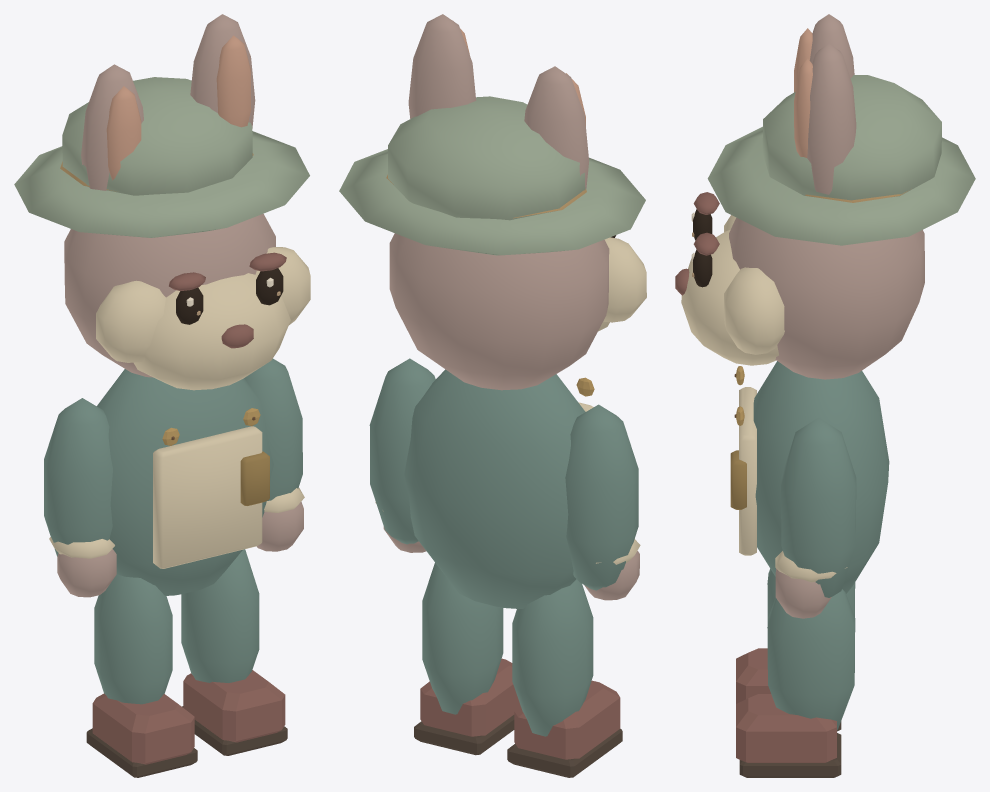
The model's file is npc_tilda.glb.
3 renders of one model, left to right at view 1: azimuth 30°, elevation 25°; view 2: azimuth 150°, elevation 25°; view 3: azimuth 270°, elevation 25°, orthographic. The views are drawn at different scales.
Visible parts, largest first — view 1: npc_tilda, npc_tilda_leg_l, npc_tilda_leg_r, npc_tilda_arm_l, npc_tilda_arm_r, npc_tilda_r_eye, npc_tilda_l_eye; view 2: npc_tilda, npc_tilda_leg_l, npc_tilda_leg_r, npc_tilda_arm_l, npc_tilda_arm_r; view 3: npc_tilda, npc_tilda_leg_r, npc_tilda_arm_r, npc_tilda_leg_l, npc_tilda_r_eye.
Boxes of the visible parts, bbox=[...] form: npc_tilda: bbox=[14, 14, 310, 595]; npc_tilda_leg_l: bbox=[86, 574, 197, 777]; npc_tilda_leg_r: bbox=[181, 549, 287, 755]; npc_tilda_arm_l: bbox=[44, 398, 116, 597]; npc_tilda_arm_r: bbox=[244, 358, 304, 551]; npc_tilda_r_eye: bbox=[256, 268, 283, 305]; npc_tilda_l_eye: bbox=[176, 287, 203, 324]; npc_tilda: bbox=[339, 14, 646, 608]; npc_tilda_leg_l: bbox=[507, 579, 622, 777]; npc_tilda_leg_r: bbox=[414, 562, 520, 755]; npc_tilda_arm_l: bbox=[565, 404, 640, 600]; npc_tilda_arm_r: bbox=[369, 358, 435, 552]; npc_tilda: bbox=[675, 14, 975, 593]; npc_tilda_leg_r: bbox=[736, 589, 855, 777]; npc_tilda_arm_r: bbox=[775, 417, 856, 618]; npc_tilda_leg_l: bbox=[736, 568, 855, 731]; npc_tilda_r_eye: bbox=[691, 249, 712, 287].
Bounding box in the file's own units: 0.7 × 1.76 × 0.6637.
